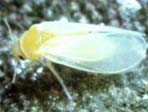whitefly: (3, 16, 148, 101)
